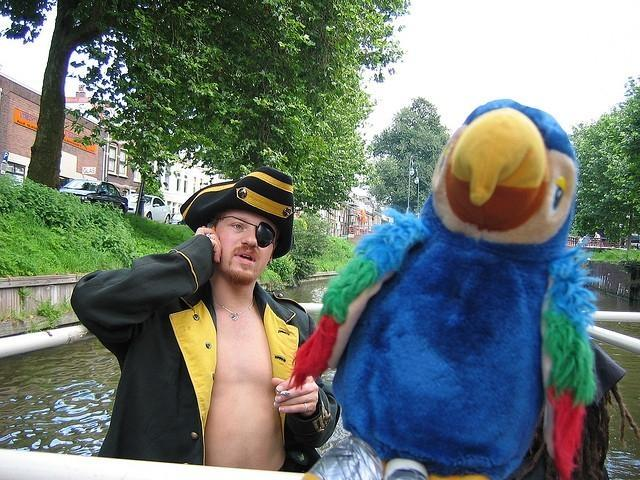car: (59, 179, 130, 214), (124, 194, 172, 224), (170, 214, 187, 226)
